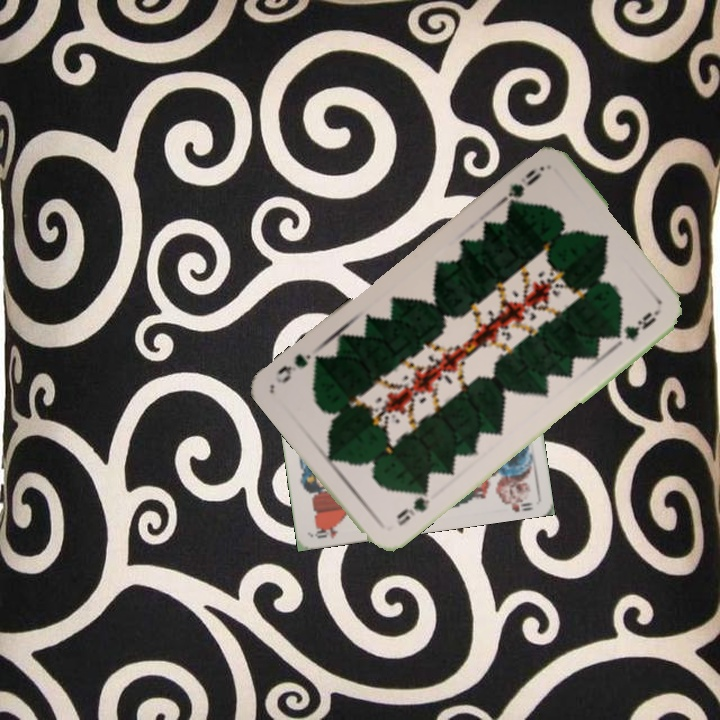G9: (497, 161, 547, 213), (392, 483, 432, 529)
HO: (310, 522, 341, 541)
